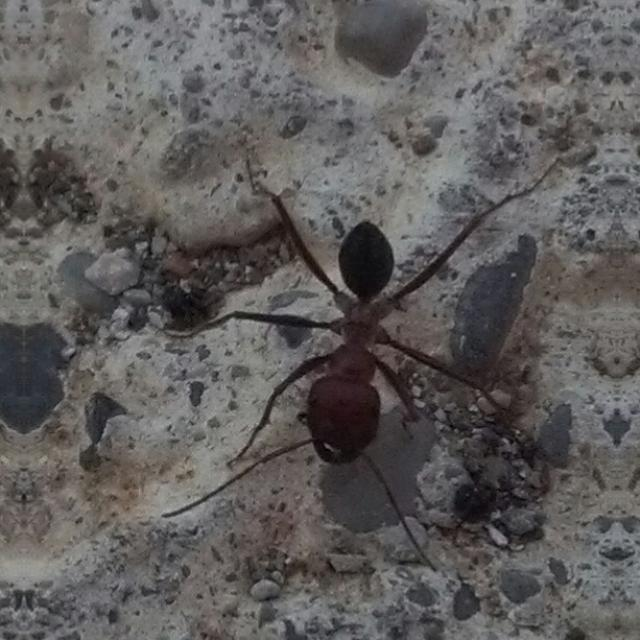Cataglyphis: (237, 176, 453, 514)
